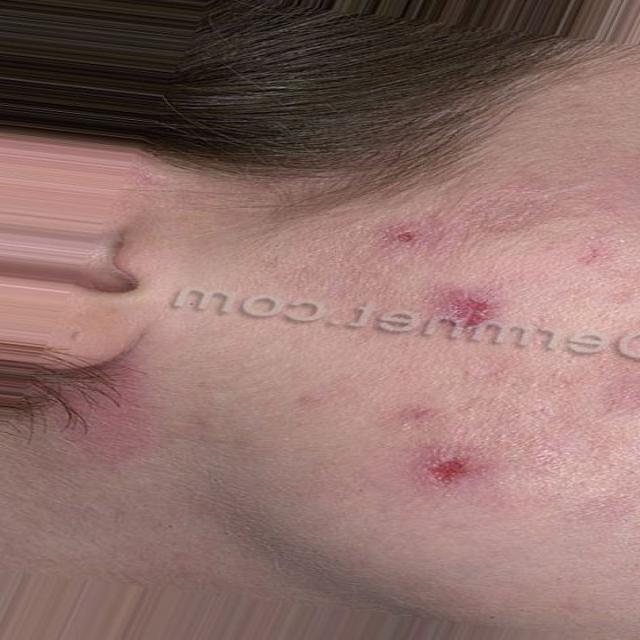acne: (524, 172, 634, 430), (312, 366, 466, 438), (309, 200, 456, 260), (353, 440, 496, 500), (414, 268, 516, 338)
